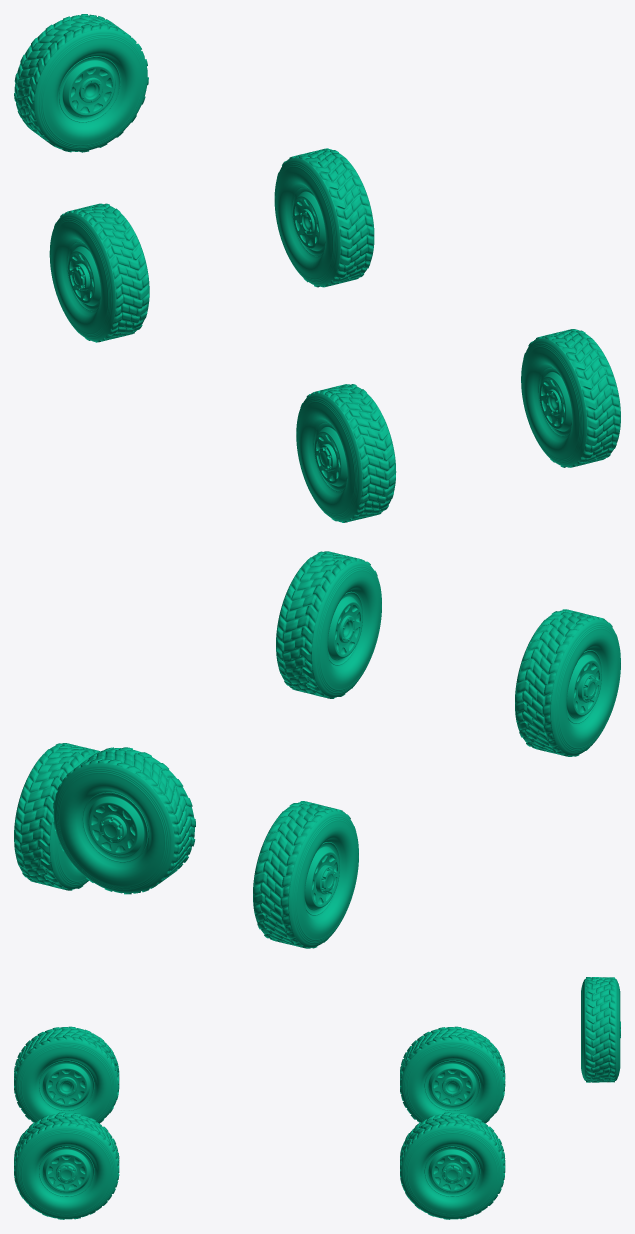
File: FHXY_02BX_A1_LunTai_MD_low_exp.fbx
3 renders of one model, top to bottom at view 1: azimuth 30°, elevation 25°; view 2: azimuth 150°, elevation 25°; view 3: azimuth 270°, elevation 25°, orthographic. The views are drawn at different scales.
Parts seen in each view (by area): view 1: FHXY_02BX_A1_LunTai_MD_low_5, FHXY_02BX_A1_LunTai_MD_low_2, FHXY_02BX_A1_LunTai_MD_low_4, FHXY_02BX_A1_LunTai_MD_low_3, FHXY_02BX_A1_LunTai_MD_low_1; view 2: FHXY_02BX_A1_LunTai_MD_low_5, FHXY_02BX_A1_LunTai_MD_low_1, FHXY_02BX_A1_LunTai_MD_low_4, FHXY_02BX_A1_LunTai_MD_low_3, FHXY_02BX_A1_LunTai_MD_low_2; view 3: FHXY_02BX_A1_LunTai_MD_low_1, FHXY_02BX_A1_LunTai_MD_low_2, FHXY_02BX_A1_LunTai_MD_low_3, FHXY_02BX_A1_LunTai_MD_low_4, FHXY_02BX_A1_LunTai_MD_low_5.
Part boxes in pixels (<box>): FHXY_02BX_A1_LunTai_MD_low_5: <box>14,14,148,152</box>; FHXY_02BX_A1_LunTai_MD_low_2: <box>274,148,374,287</box>; FHXY_02BX_A1_LunTai_MD_low_4: <box>49,203,149,342</box>; FHXY_02BX_A1_LunTai_MD_low_3: <box>296,384,396,522</box>; FHXY_02BX_A1_LunTai_MD_low_1: <box>521,329,620,467</box>; FHXY_02BX_A1_LunTai_MD_low_5: <box>53,747,195,894</box>; FHXY_02BX_A1_LunTai_MD_low_1: <box>276,551,381,698</box>; FHXY_02BX_A1_LunTai_MD_low_4: <box>253,801,358,948</box>; FHXY_02BX_A1_LunTai_MD_low_3: <box>515,609,620,756</box>; FHXY_02BX_A1_LunTai_MD_low_2: <box>14,743,99,890</box>; FHXY_02BX_A1_LunTai_MD_low_1: <box>14,1112,119,1219</box>; FHXY_02BX_A1_LunTai_MD_low_2: <box>400,1112,505,1219</box>; FHXY_02BX_A1_LunTai_MD_low_3: <box>14,1026,119,1123</box>; FHXY_02BX_A1_LunTai_MD_low_4: <box>400,1026,505,1123</box>; FHXY_02BX_A1_LunTai_MD_low_5: <box>581,977,620,1082</box>.
Size of the model in its own units: 183 by 145 by 456.
